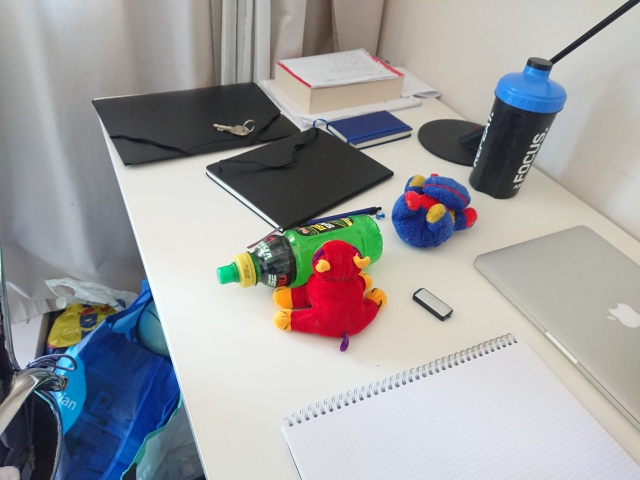Vindi Iso Sport Lemon-Grapefruit 500mL: (215, 211, 385, 291)
